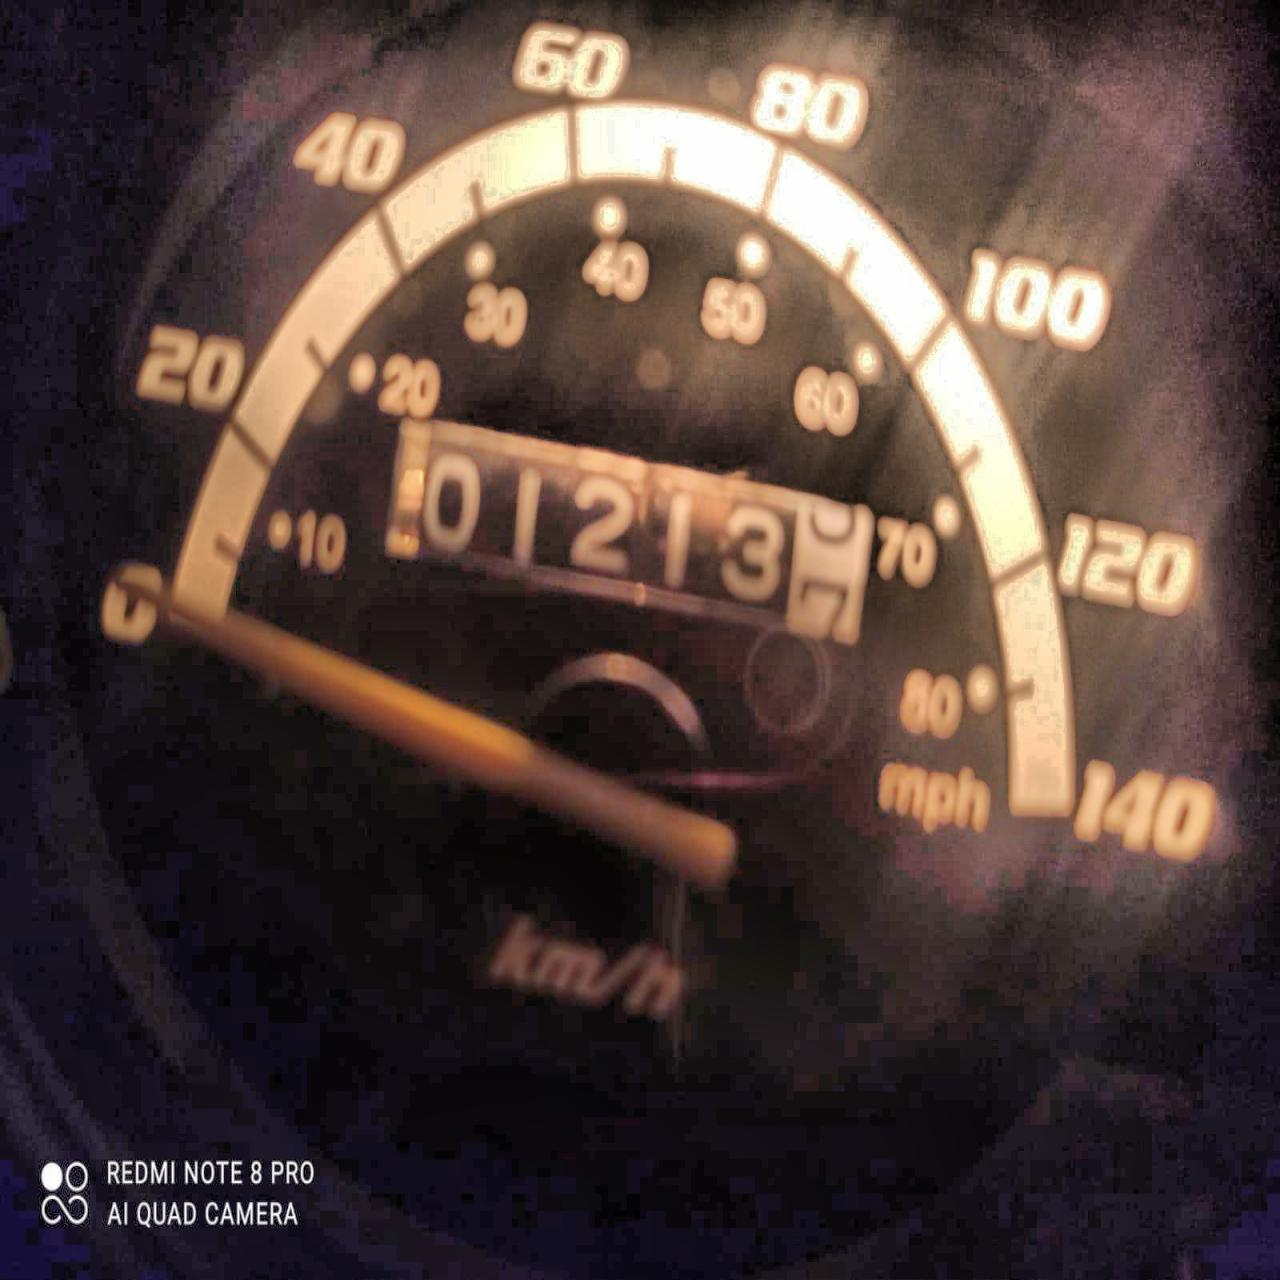0: (422, 443, 486, 572)
1: (656, 463, 701, 628), (503, 440, 546, 601)
2: (570, 451, 639, 595)
3: (712, 485, 785, 620)
7: (796, 554, 863, 668)
odometer: (388, 415, 881, 674)
